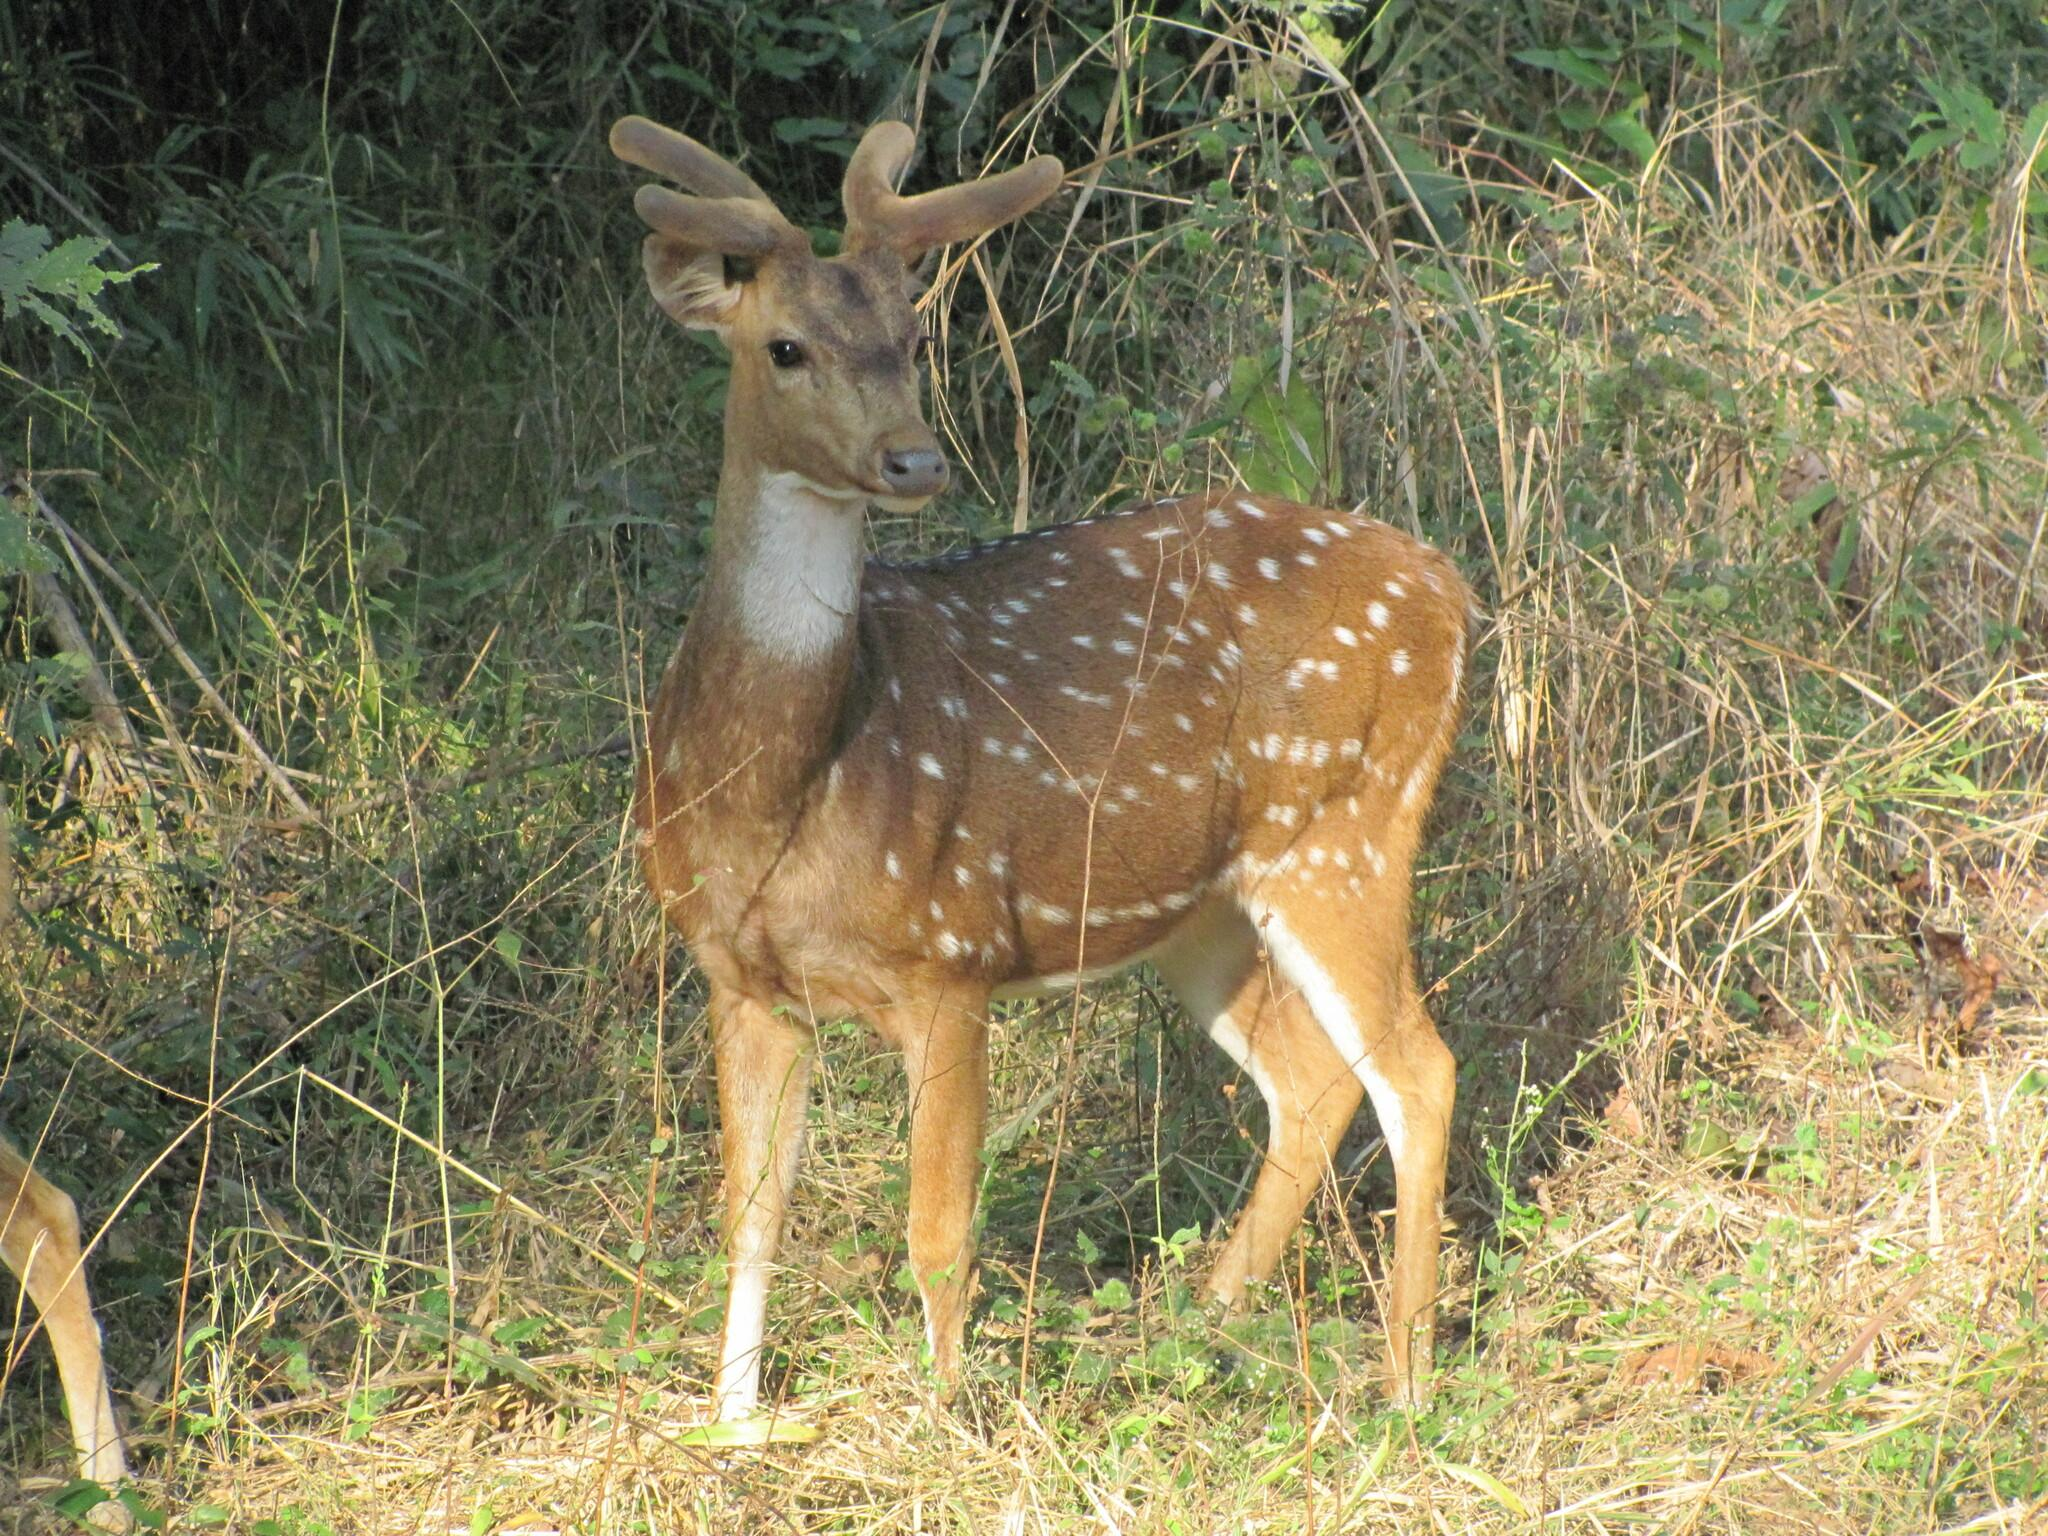Deer: (611, 116, 1467, 1442)
